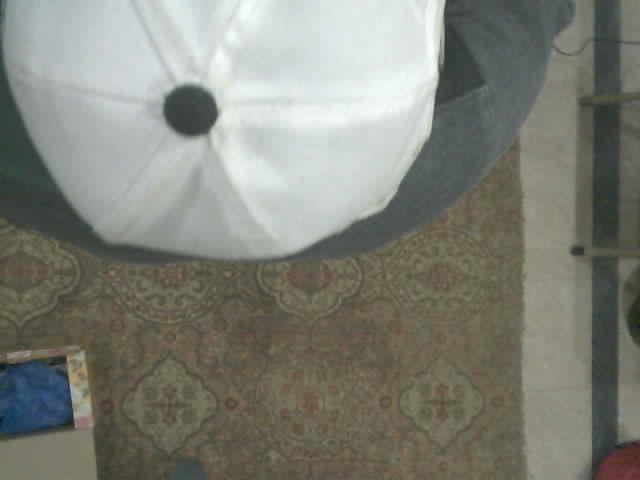cap: (2, 0, 571, 259)
